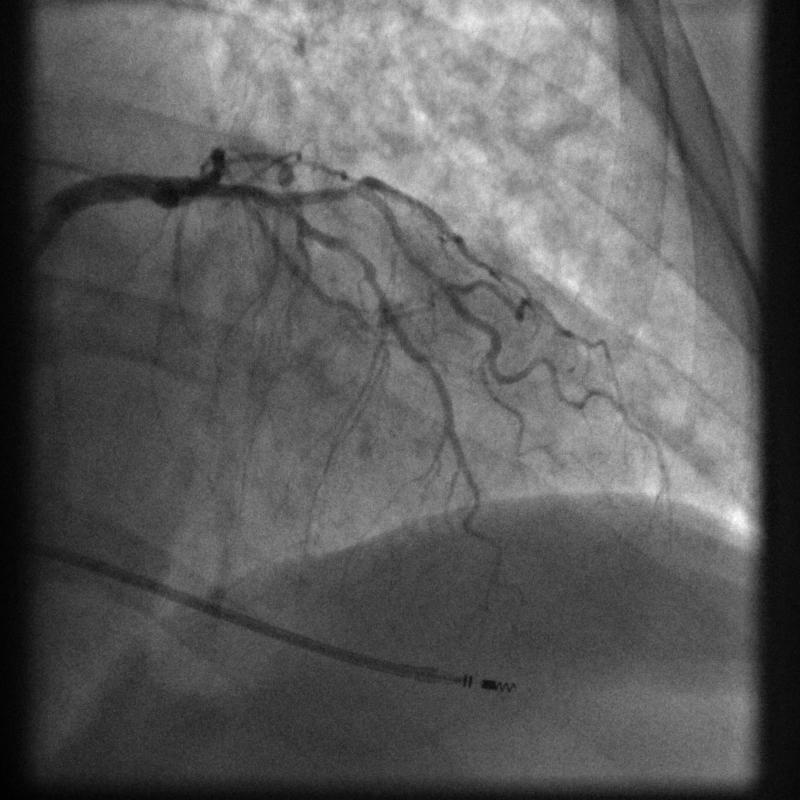Stenosis: (334, 239, 380, 286)
